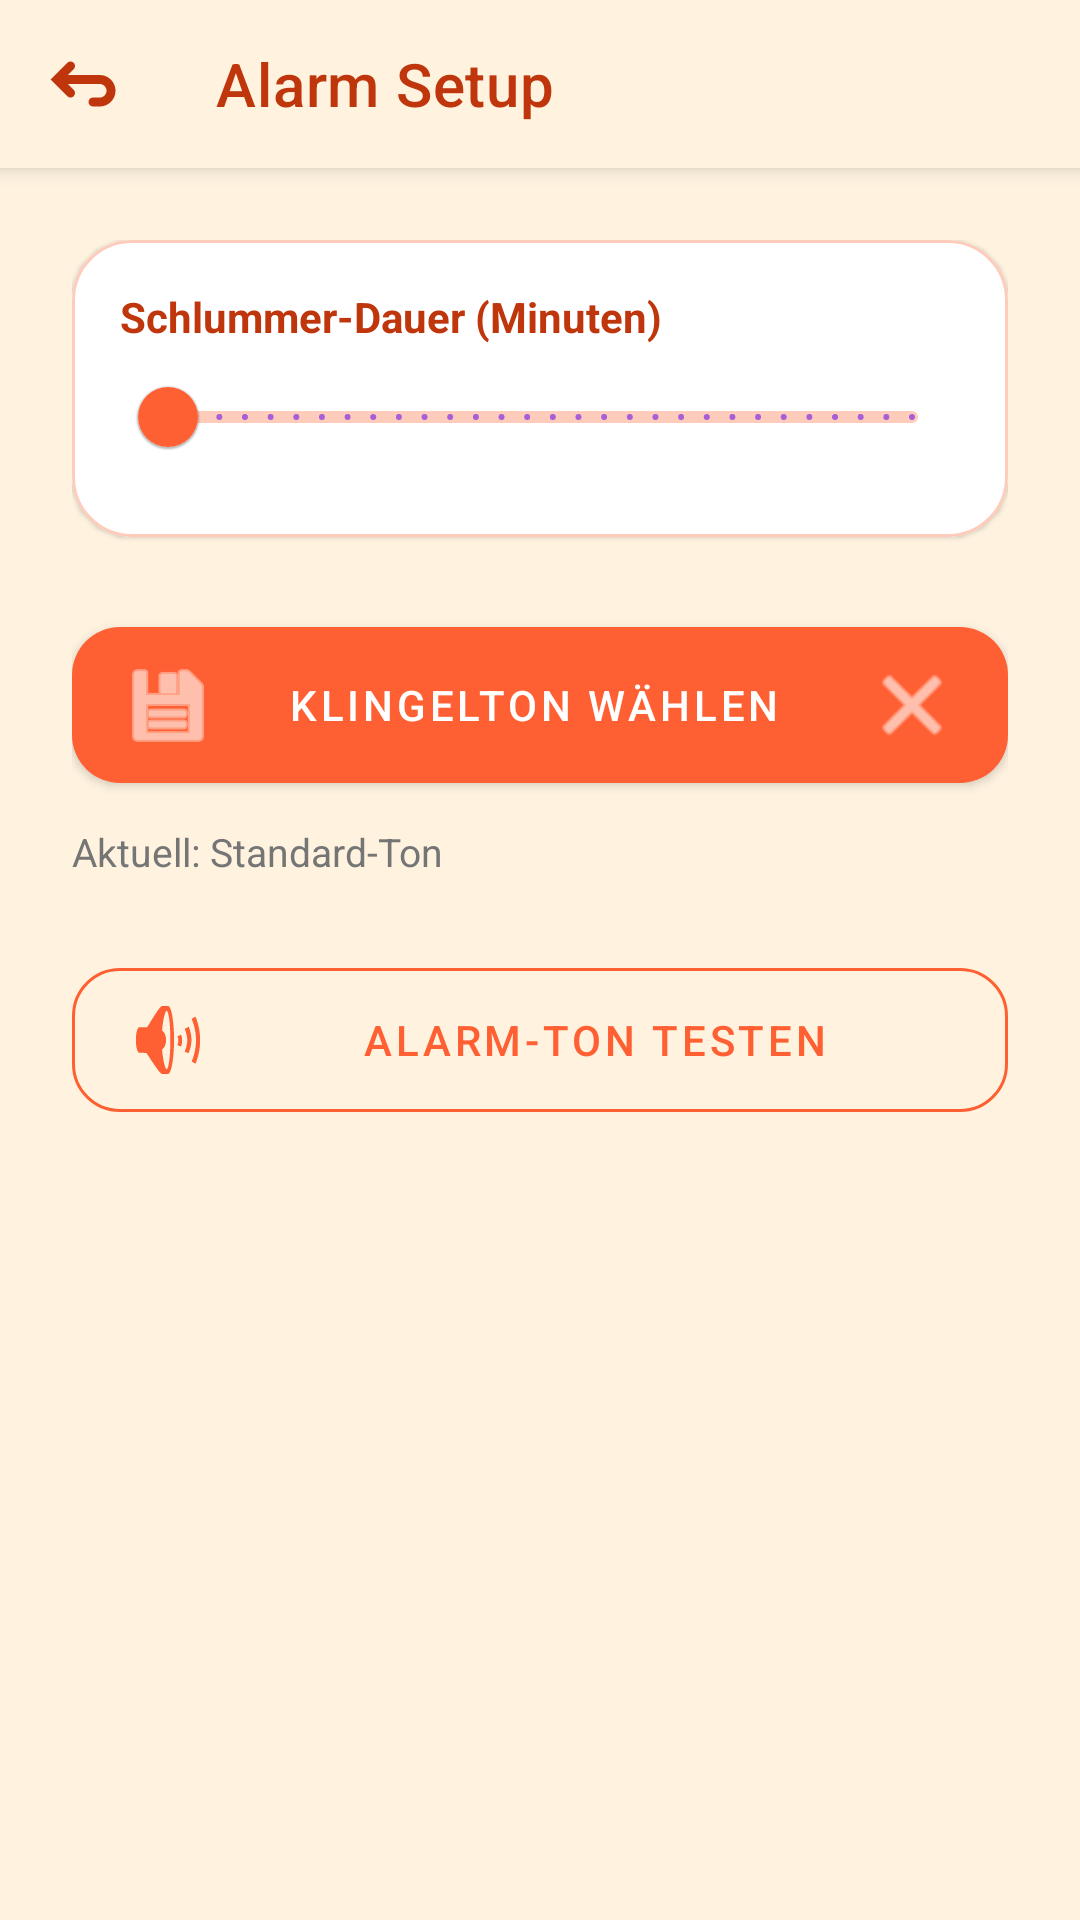

Named icons in this screenshot (1080 x 1920) and their centers, point (x, y):
close clear cancel: point (912, 705)
